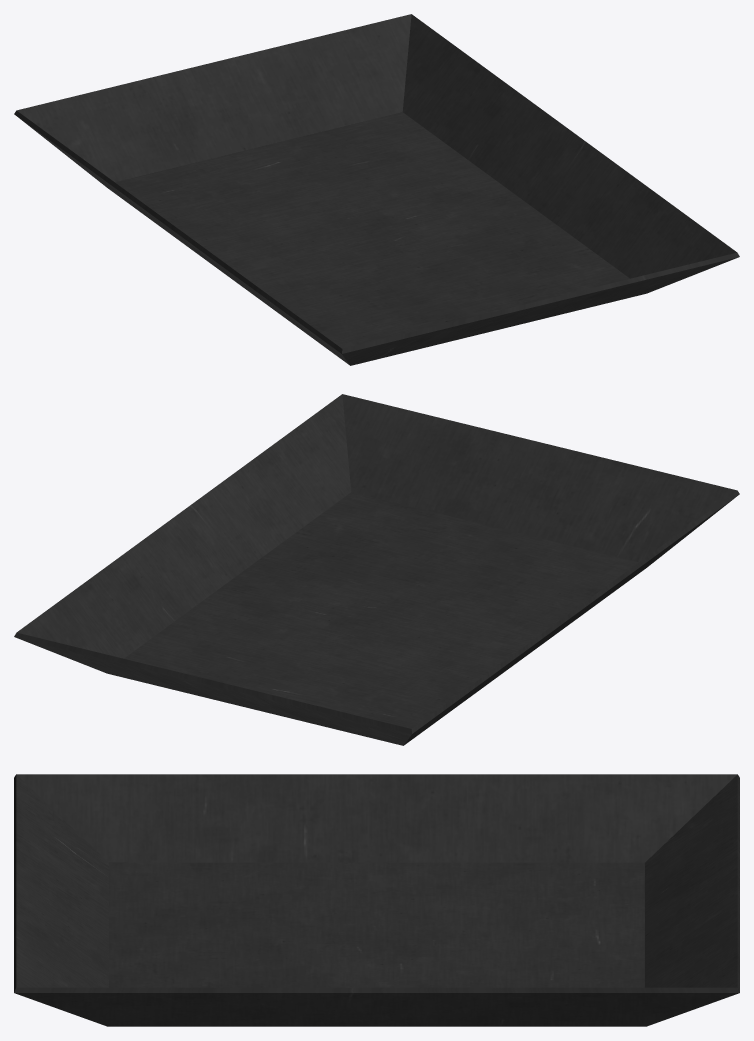
Rendered from Disection_Board.fbx.
3 views of the same model, one above another, from view 1: azimuth 30°, elevation 25°; view 2: azimuth 150°, elevation 25°; view 3: azimuth 270°, elevation 25° (orthographic). The views are drawn at different scales.
Parts seen in each view (by area): view 1: Dissecting_Board_SM; view 2: Dissecting_Board_SM; view 3: Dissecting_Board_SM.
Boxes of the visible parts, x1,y1,x2,y2 form: Dissecting_Board_SM: (14, 14, 739, 365); Dissecting_Board_SM: (14, 394, 739, 745); Dissecting_Board_SM: (14, 774, 739, 1026).
Bounding box in the file's own units: 28.95 × 4.12 × 41.28.
1 material, 1 textured.
